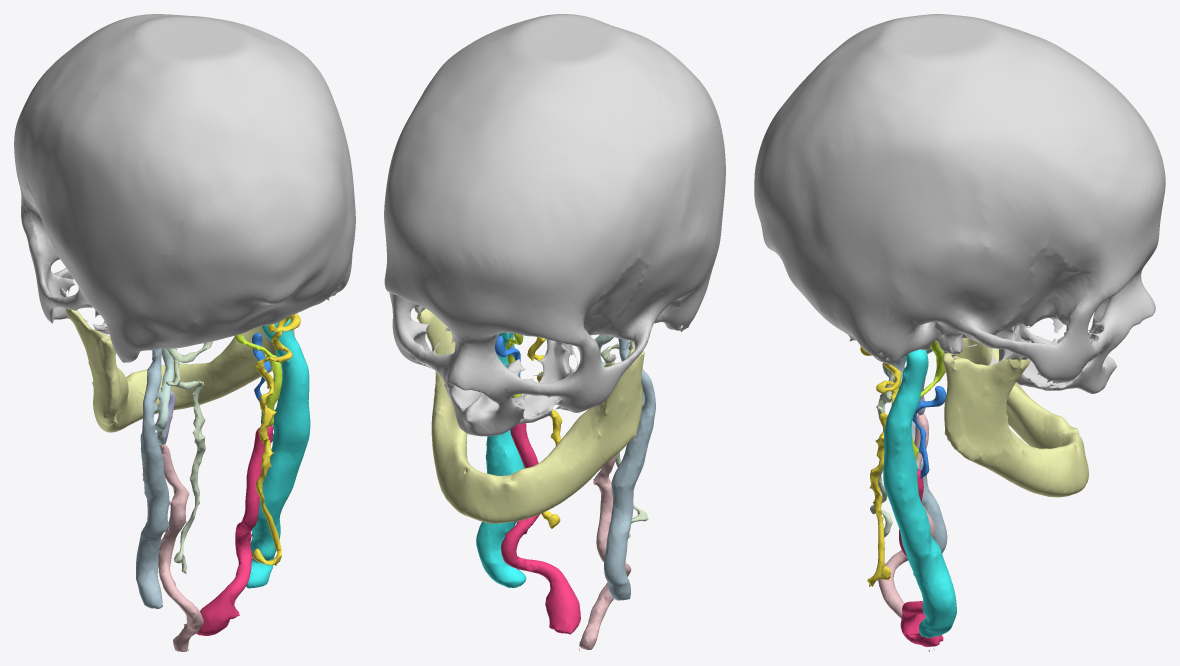
The model's file is skull-vessels.glb.
3 views of the same model, side by side, from view 1: azimuth 30°, elevation 25°; view 2: azimuth 150°, elevation 25°; view 3: azimuth 270°, elevation 25° (orthographic). The views are drawn at different scales.
Parts seen in each view (by area): view 1: SPL_HN_skull, SPL_HN_mandible, SPL_HN_right_internal_jugular_vein, SPL_HN_left_internal_jugular_vein, SPL_HN_right_common_carotid, SPL_HN_left_common_carotid, SPL_HN_right_vertebral_artery, SPL_HN_left_vertebral_artery, SPL_HN_left_internal_carotid, SPL_HN_right_internal_carotid; view 2: SPL_HN_skull, SPL_HN_mandible, SPL_HN_left_internal_jugular_vein, SPL_HN_right_common_carotid, SPL_HN_right_internal_jugular_vein, SPL_HN_left_common_carotid, SPL_HN_right_vertebral_artery; view 3: SPL_HN_skull, SPL_HN_mandible, SPL_HN_right_internal_jugular_vein, SPL_HN_right_vertebral_artery, SPL_HN_left_common_carotid, SPL_HN_right_common_carotid, SPL_HN_left_internal_jugular_vein, SPL_HN_right_external_carotid, SPL_HN_left_vertebral_artery.
Part boxes in pixels (<box>): SPL_HN_skull: <box>14,14,355,362</box>; SPL_HN_mandible: <box>59,287,294,432</box>; SPL_HN_right_internal_jugular_vein: <box>246,319,310,588</box>; SPL_HN_left_internal_jugular_vein: <box>136,349,170,608</box>; SPL_HN_right_common_carotid: <box>196,425,273,635</box>; SPL_HN_left_common_carotid: <box>158,444,203,651</box>; SPL_HN_right_vertebral_artery: <box>253,313,300,565</box>; SPL_HN_left_vertebral_artery: <box>166,341,212,573</box>; SPL_HN_left_internal_carotid: <box>154,349,174,445</box>; SPL_HN_right_internal_carotid: <box>235,334,282,426</box>; SPL_HN_skull: <box>384,14,725,436</box>; SPL_HN_mandible: <box>416,308,644,523</box>; SPL_HN_left_internal_jugular_vein: <box>604,338,655,600</box>; SPL_HN_right_common_carotid: <box>501,423,580,634</box>; SPL_HN_right_internal_jugular_vein: <box>476,332,526,587</box>; SPL_HN_left_common_carotid: <box>579,454,631,651</box>; SPL_HN_right_vertebral_artery: <box>527,337,562,528</box>; SPL_HN_skull: <box>754,14,1165,393</box>; SPL_HN_mandible: <box>943,333,1088,497</box>; SPL_HN_right_internal_jugular_vein: <box>883,349,956,637</box>; SPL_HN_right_vertebral_artery: <box>860,346,901,586</box>; SPL_HN_left_common_carotid: <box>878,413,934,651</box>; SPL_HN_right_common_carotid: <box>899,468,943,646</box>; SPL_HN_left_internal_jugular_vein: <box>893,357,947,575</box>; SPL_HN_right_external_carotid: <box>912,386,946,478</box>; SPL_HN_left_vertebral_artery: <box>870,365,894,537</box>.
Bounding box in the file's own units: 140 × 298 × 179.
